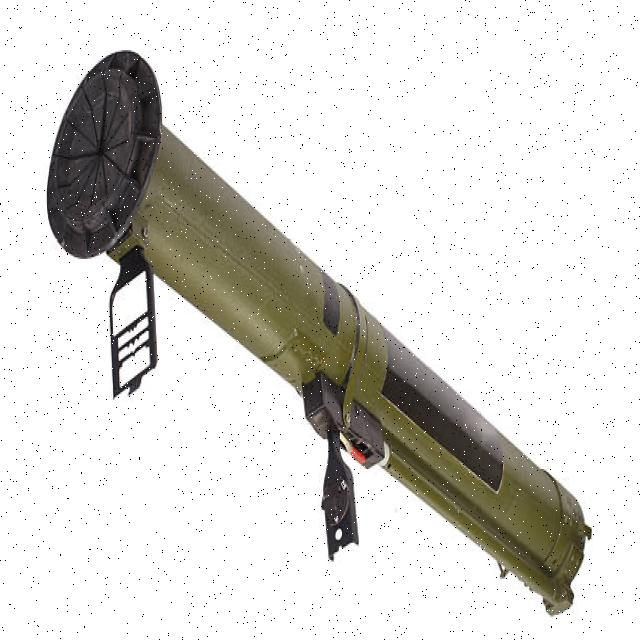bazooka: (47, 32, 597, 633)
